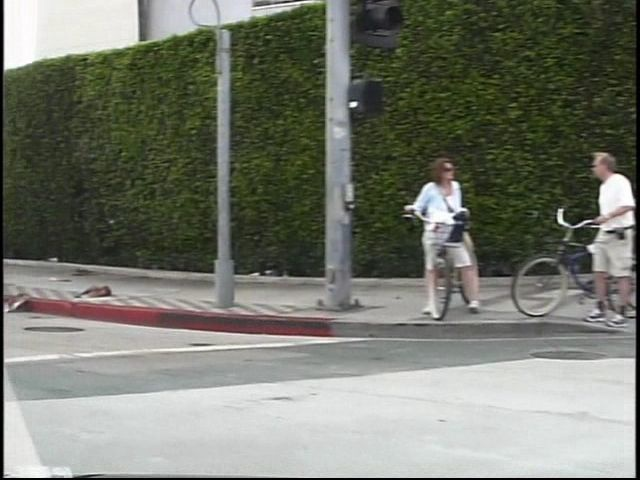person: (401, 156, 468, 326), (569, 153, 619, 333)
